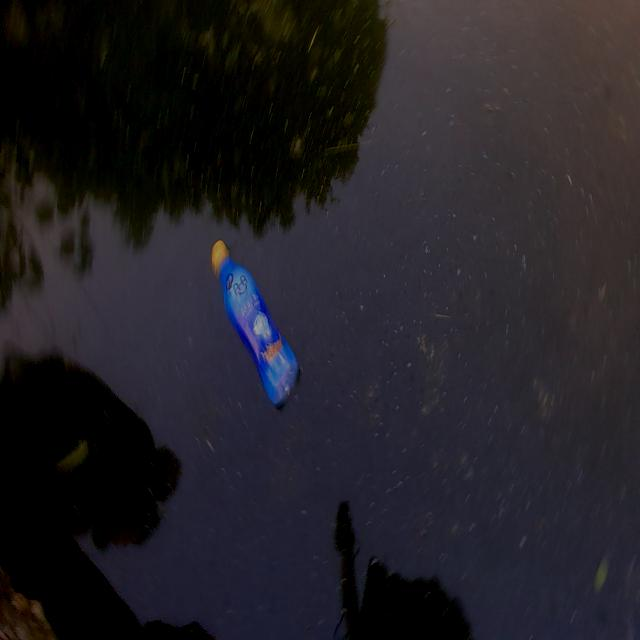bottle: (196, 208, 311, 439)
